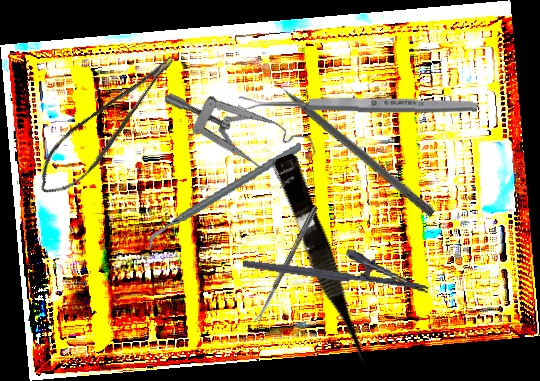Chopper: (136, 140, 313, 252)
Micro Scissor: (21, 50, 198, 206), (267, 152, 377, 376)
Needle Holder: (242, 234, 433, 294)
Pusher: (261, 68, 438, 218)
Speculum: (161, 42, 325, 211)
Surgical Spoon: (253, 205, 318, 325), (238, 94, 478, 115)
